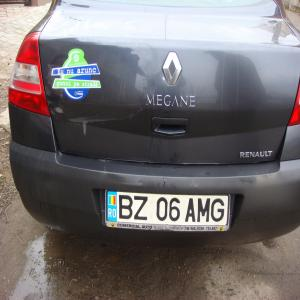Vehicle-registration-plate: (104, 189, 232, 233)
